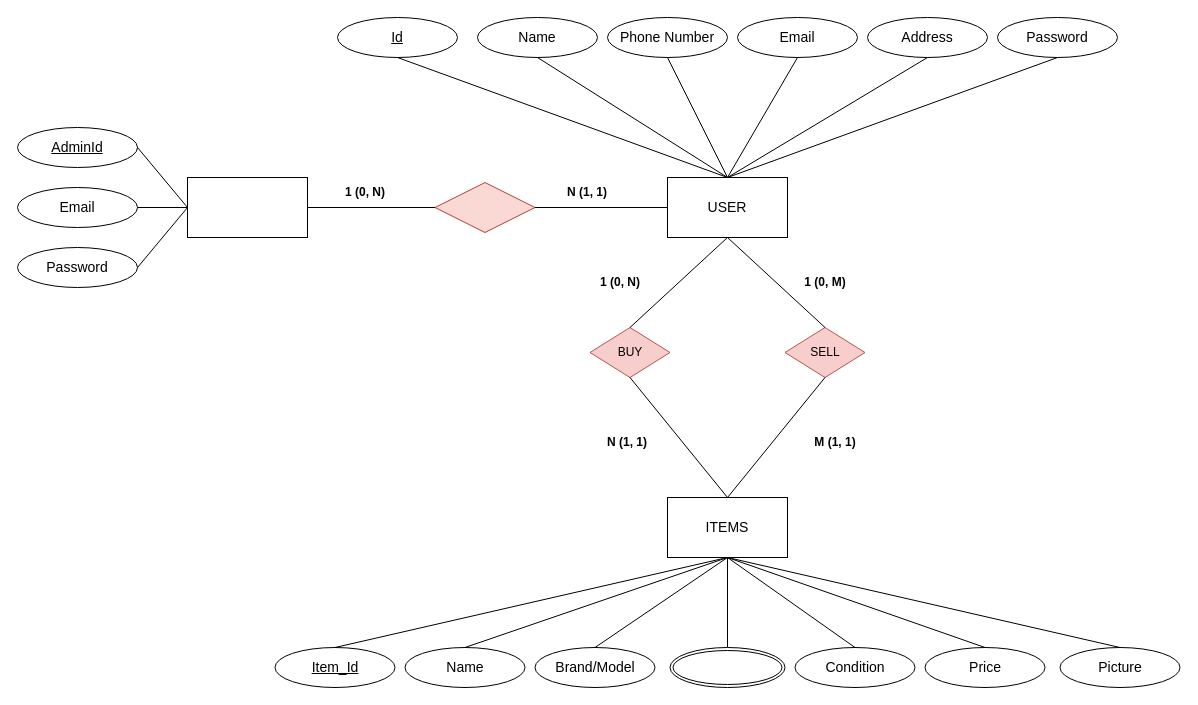
Image size: 1198x705. Some labels were removed from this diagram. The centre of each missing label's shape, as x and y in pixels:
ADMIN: the point at 247,207
Monitor: the point at 484,207
Type: the point at 727,667
